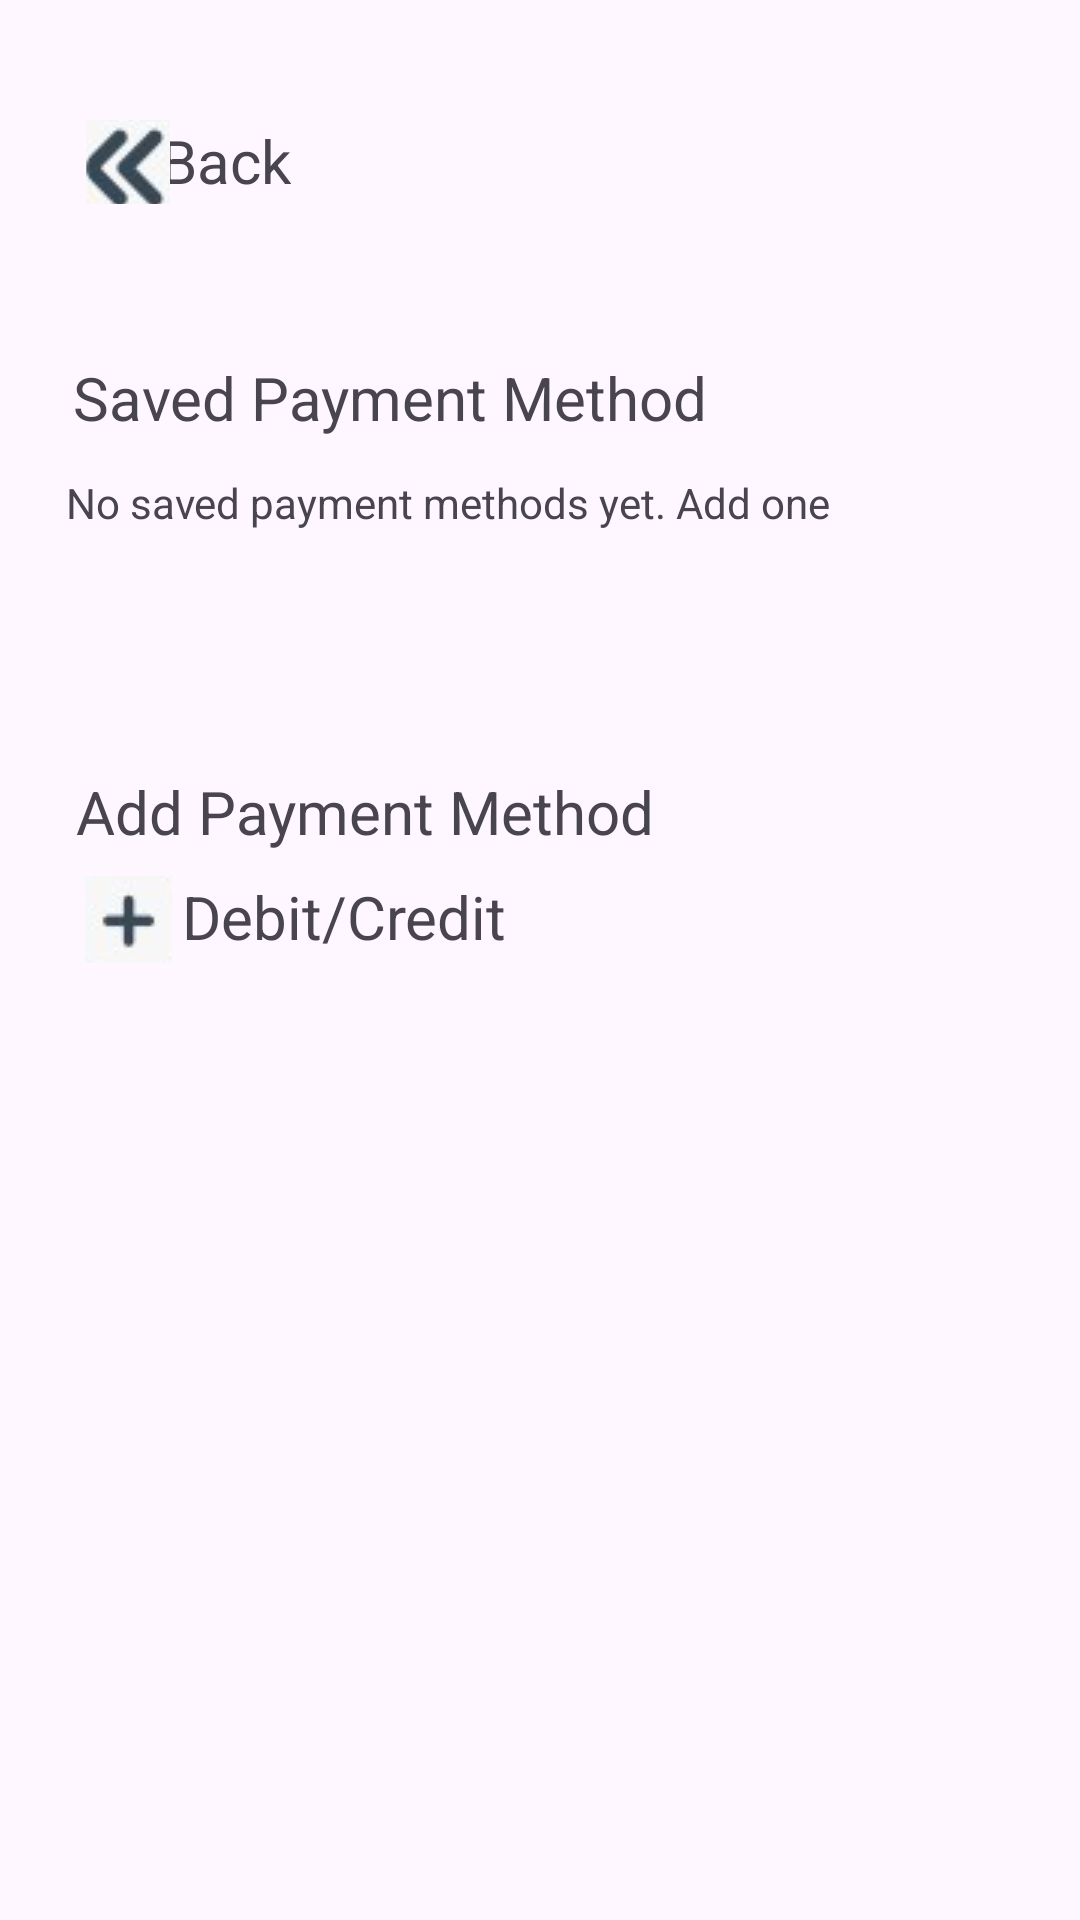

Icons on this 1080×1920 Android screen, each with the point to tap as [x,y]:
addicon: [128,921]
